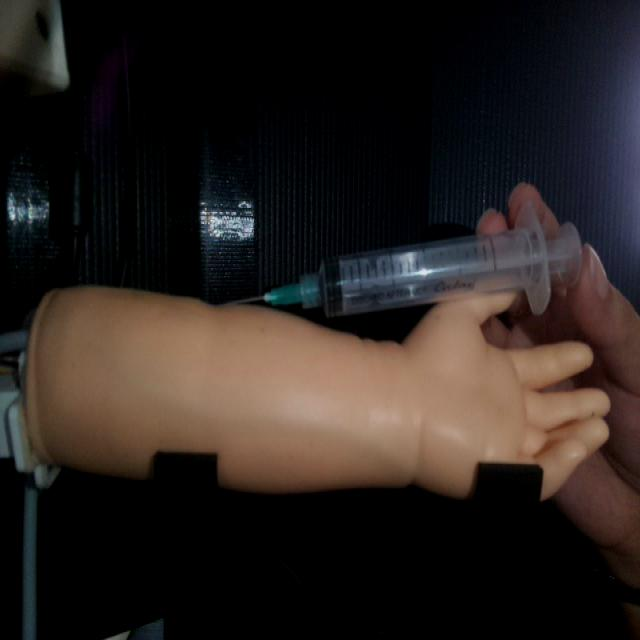Below 15 degrees: (224, 208, 584, 320)
